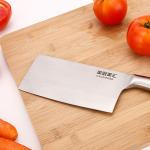knief: (21, 51, 143, 113)
